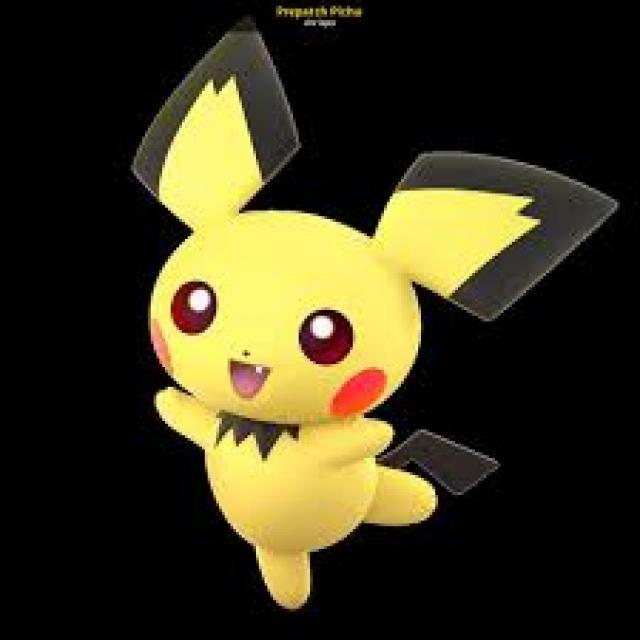pichu: (45, 9, 619, 619)
